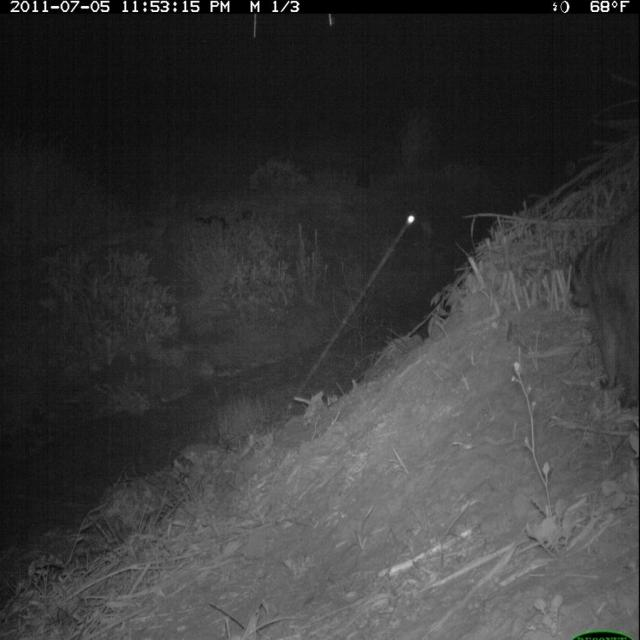raccoon: (562, 190, 640, 419)
